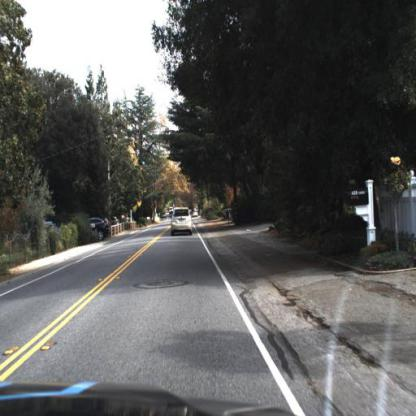car: (167, 206, 194, 238), (88, 215, 114, 241), (91, 214, 109, 239)
